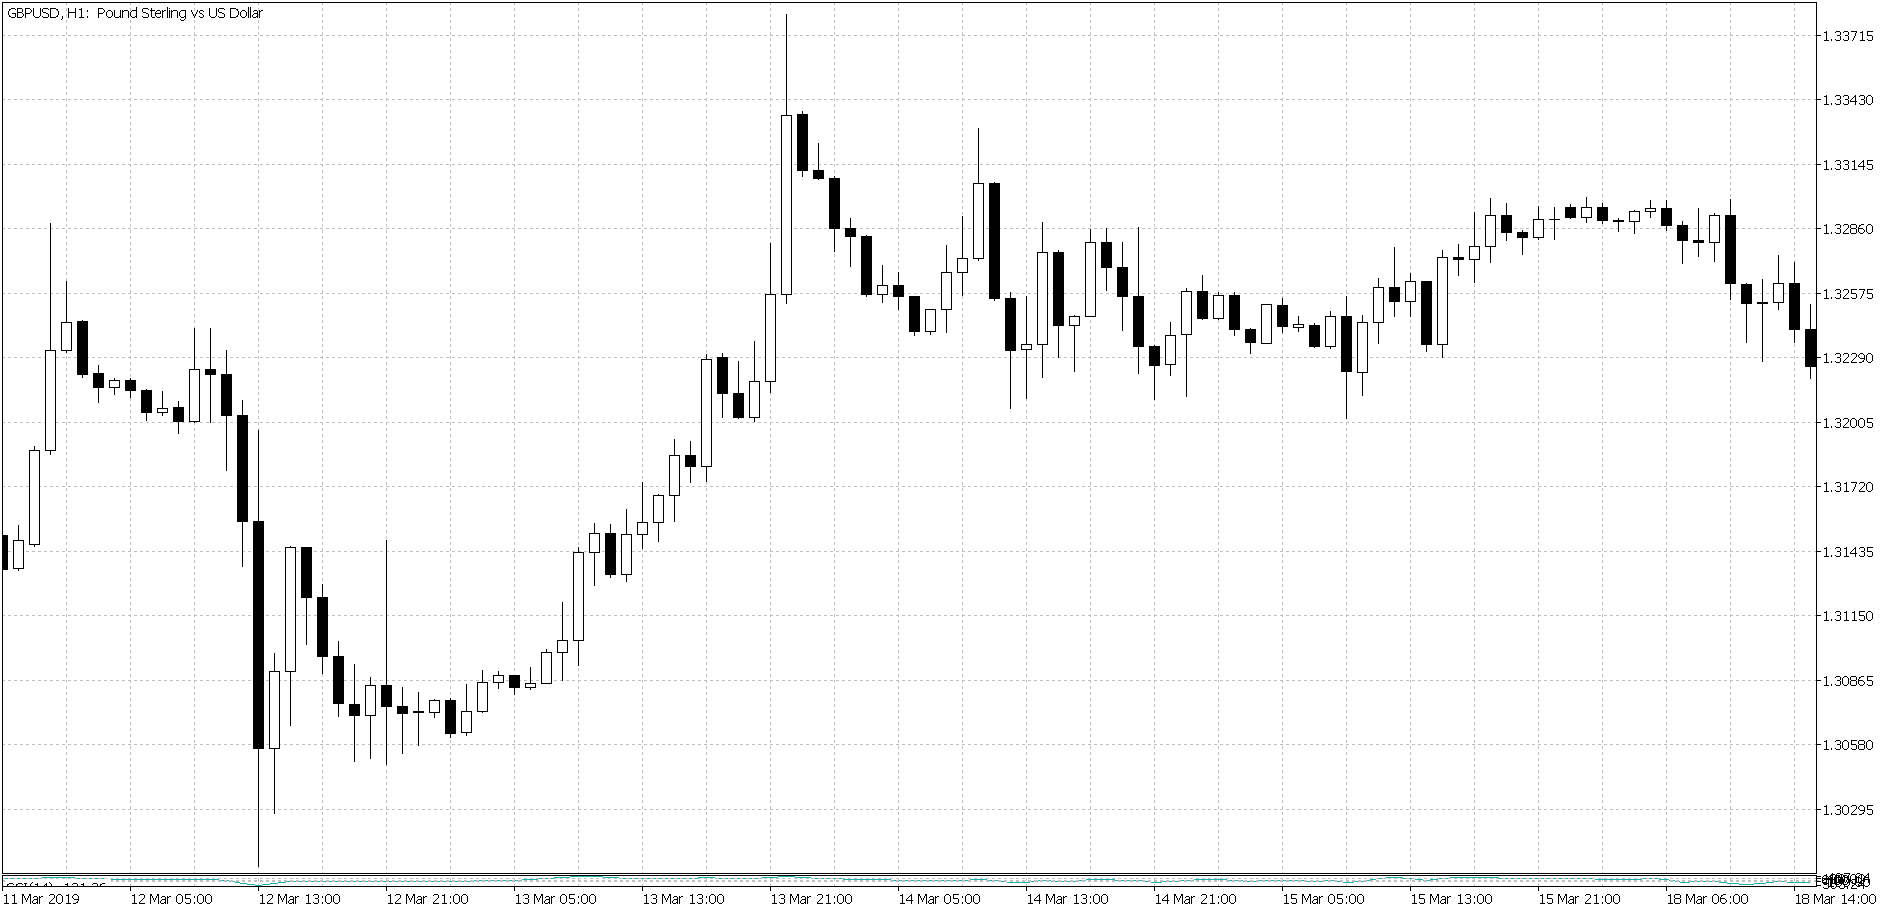3blackcrows: (217, 335, 268, 789)
bullishEngulfing: (730, 347, 762, 446), (1149, 322, 1180, 401)
hammer: (1067, 313, 1081, 380)
